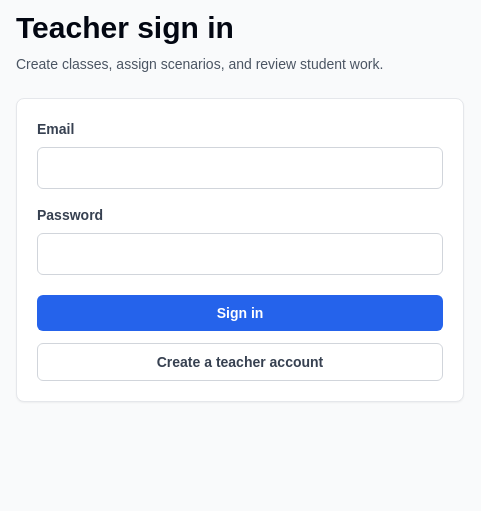
Test: TeacherLoginPage › signs up with a teacher login email confirmation redirect
Click the button "Create a teacher account": {"x": 240, "y": 362} [37, 343, 443, 381]
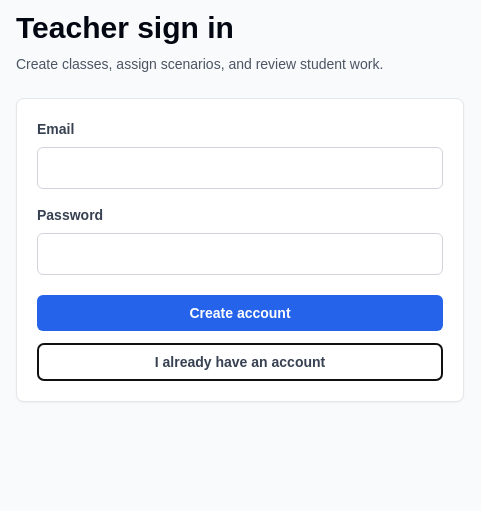
In the field labelled "Email": {"x": 240, "y": 168} [37, 147, 443, 189], type "teacher@example.com"
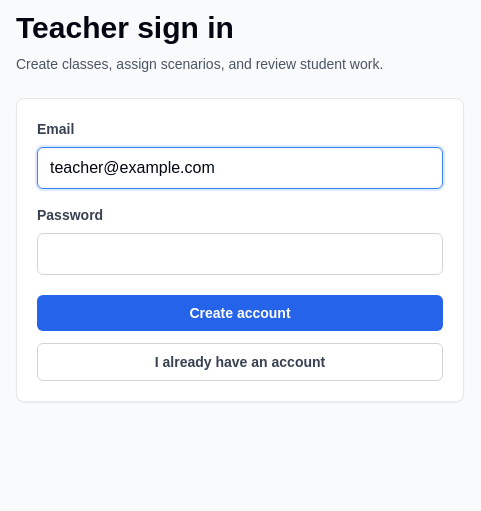
In the password field labelled "Password": {"x": 240, "y": 254} [37, 233, 443, 275], type "password123"
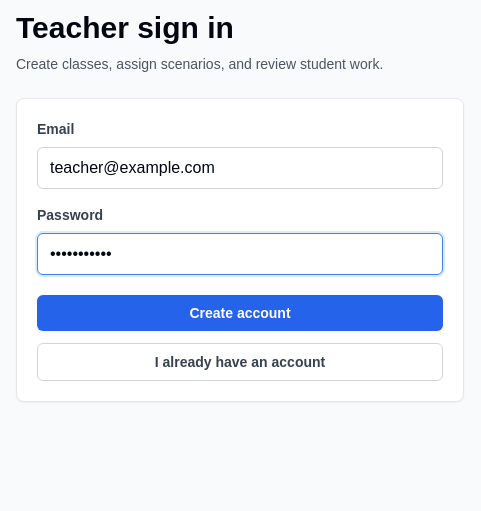
Click the button "Create account": {"x": 240, "y": 313} [37, 295, 443, 331]
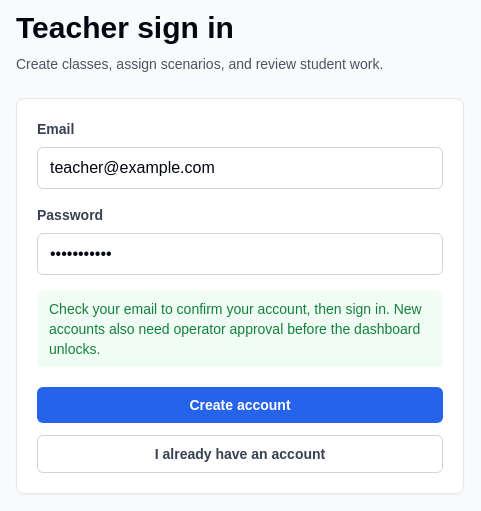
Check: the text "Check your email to confirm your account, then sign in. New accounts also need operator approval before the dashboard un" is shown, box [49, 301, 422, 357]
